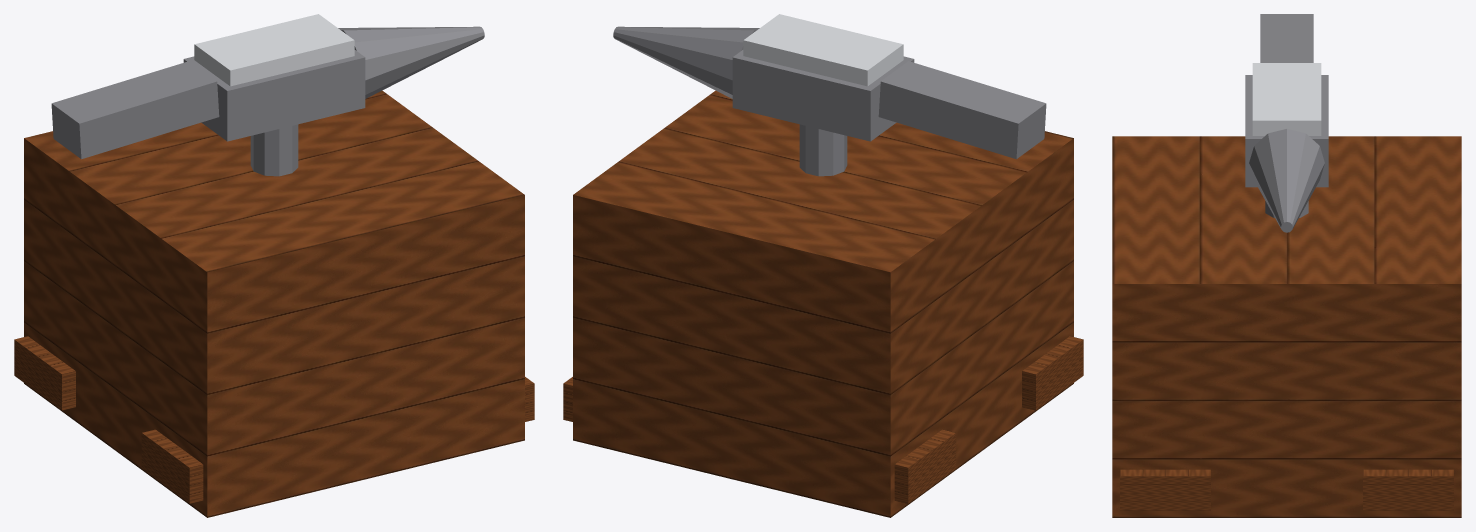
The model's file is stake-anvil-in-a-block-0-66-m.glb.
3 renders of one model, left to right at view 1: azimuth 30°, elevation 25°; view 2: azimuth 150°, elevation 25°; view 3: azimuth 270°, elevation 25°, orthographic. The views are drawn at different scales.
Parts seen in each view (by area): view 1: blacksmith-forge-and-armoury-stake-anvil; view 2: blacksmith-forge-and-armoury-stake-anvil; view 3: blacksmith-forge-and-armoury-stake-anvil.
Boxes of the visible parts, left/top/right/bottom form: blacksmith-forge-and-armoury-stake-anvil: left=14, top=14, right=534, bottom=517; blacksmith-forge-and-armoury-stake-anvil: left=563, top=14, right=1083, bottom=517; blacksmith-forge-and-armoury-stake-anvil: left=1112, top=14, right=1461, bottom=517.
Bounding box in the file's own units: 0.6028 × 0.512 × 0.46.
3 materials, 1 textured.
